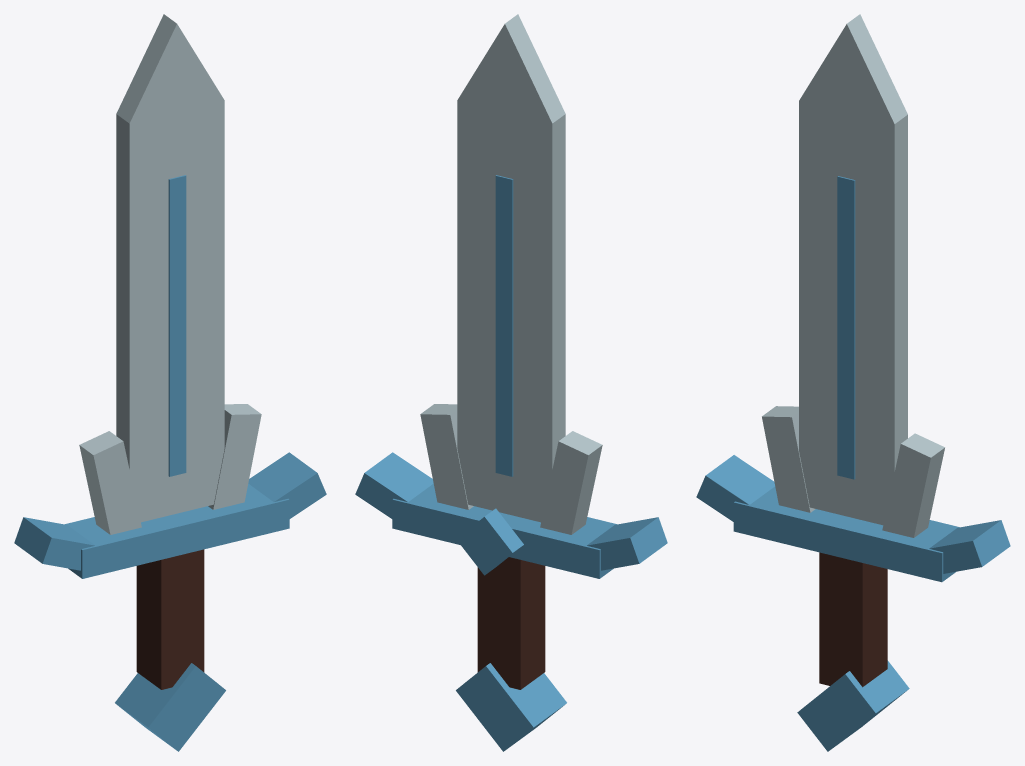
File: oathblade.glb
The picture shows the model from 3 angles, left to right: view 1: azimuth 30°, elevation 25°; view 2: azimuth 150°, elevation 25°; view 3: azimuth 330°, elevation 25°; orthographic projection.
Visible parts, largest first — view 1: oathblade; view 2: oathblade; view 3: oathblade.
Part boxes in pixels (x1=…): oathblade: x1=14, y1=14, x2=326, y2=751; oathblade: x1=355, y1=14, x2=667, y2=751; oathblade: x1=696, y1=14, x2=1010, y2=751.
Bounding box in the file's own units: 1.85 × 4.47 × 0.495.
